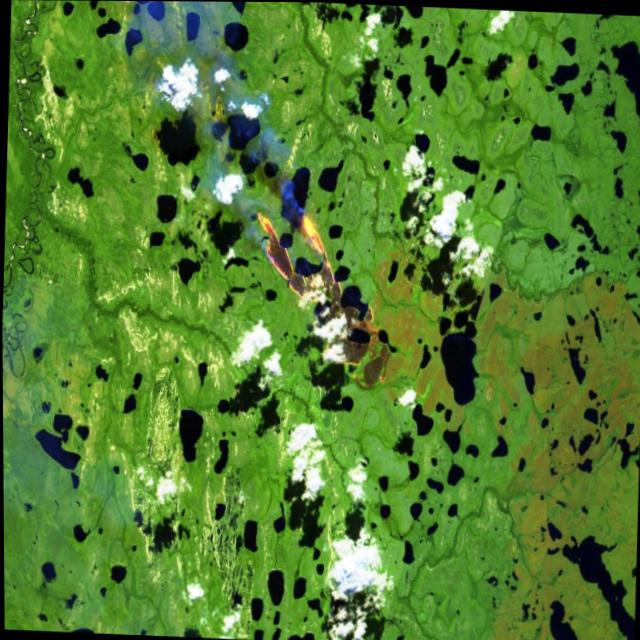fire: (246, 201, 395, 382)
